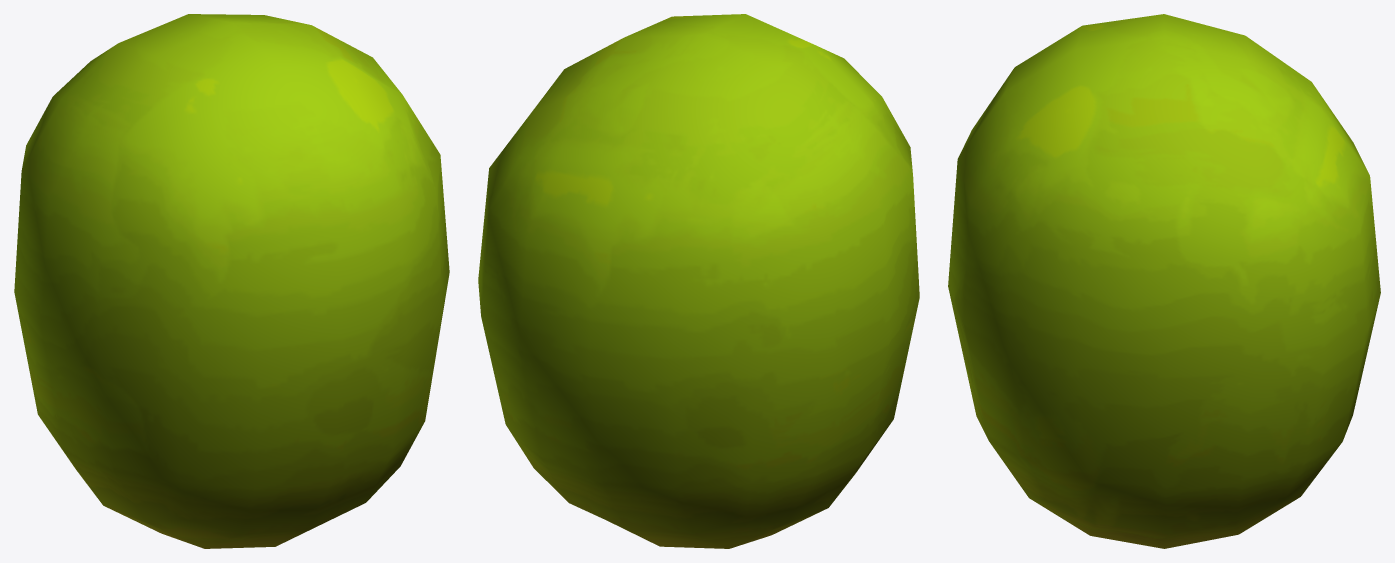
Rendered from SM_Grape_C.fbx.
The picture shows the model from 3 angles, left to right: view 1: azimuth 30°, elevation 25°; view 2: azimuth 150°, elevation 25°; view 3: azimuth 270°, elevation 25°; orthographic projection. The views are drawn at different scales.
Visible parts, largest first — view 1: SM_Grape_C; view 2: SM_Grape_C; view 3: SM_Grape_C.
Part boxes in pixels (x1,y1,x2,y2): SM_Grape_C: (14,14,449,548); SM_Grape_C: (478,14,919,548); SM_Grape_C: (948,14,1380,548).
Bounding box in the file's own units: 3.34 × 4.22 × 3.36.
